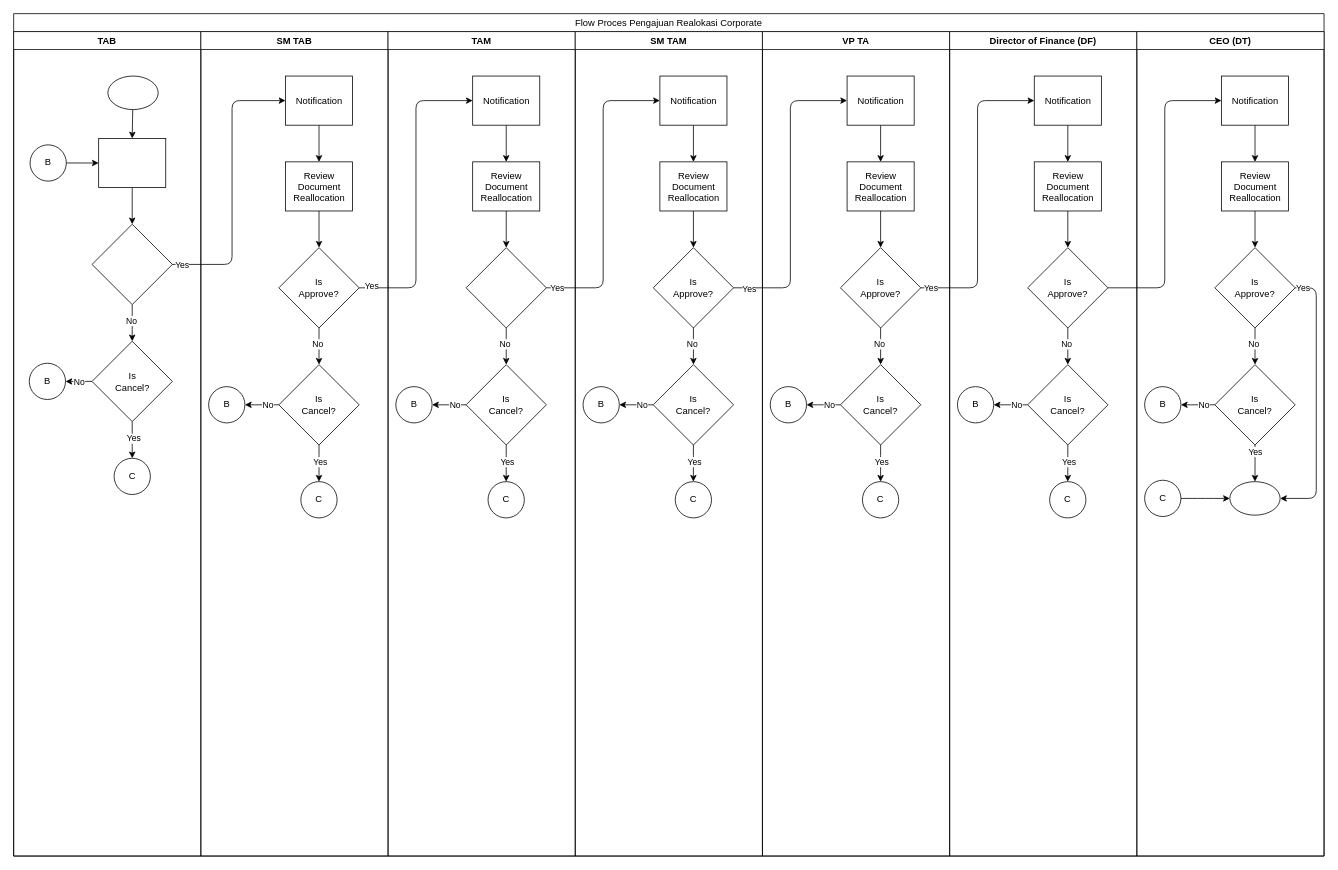
This 1338x870 diagram has some shape labels left out. Here are the shapes that lost their labels. From the top down, the centre of each, then its label:
(132,92): Start
(132,163): Fill/Edit Document Reallocation
(131,264): Is Submit?
(505,287): Is Confirm?
(1254,498): End
